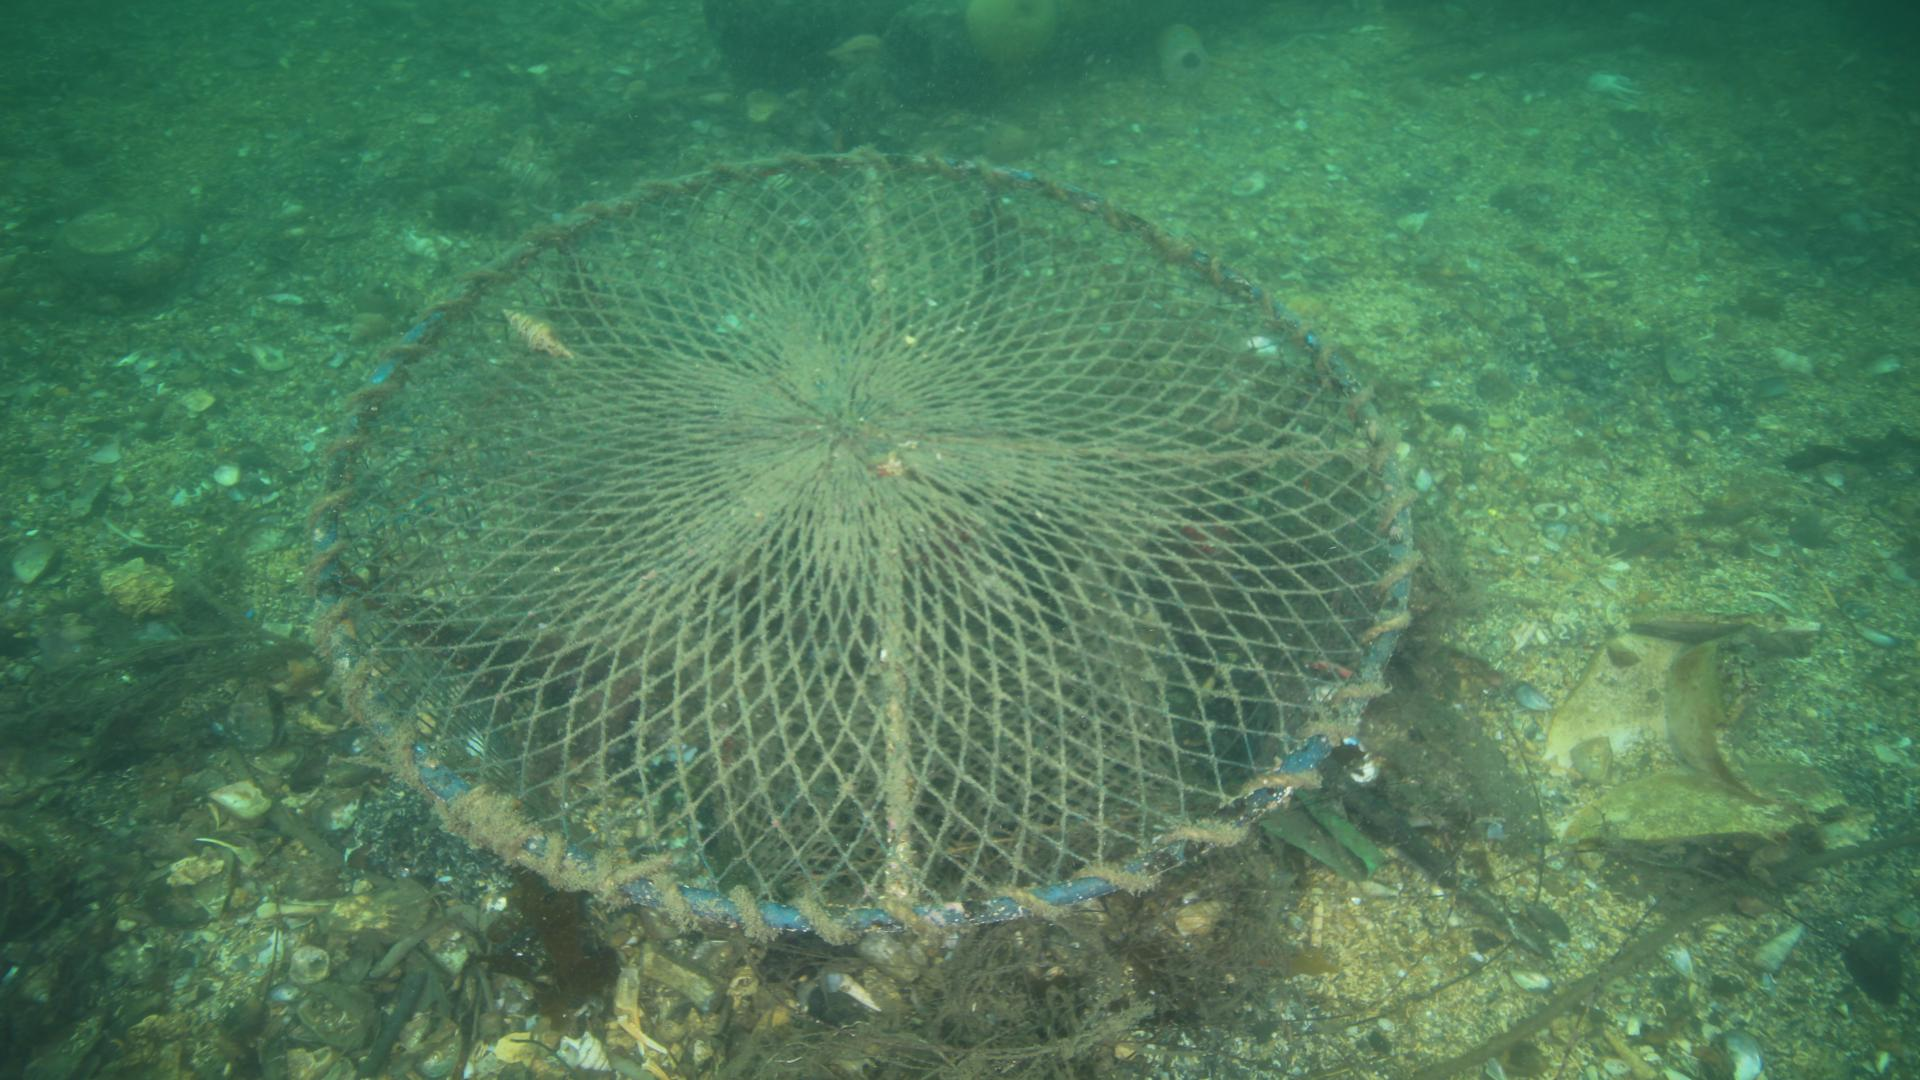circular fish trap: (309, 149, 1418, 931)
